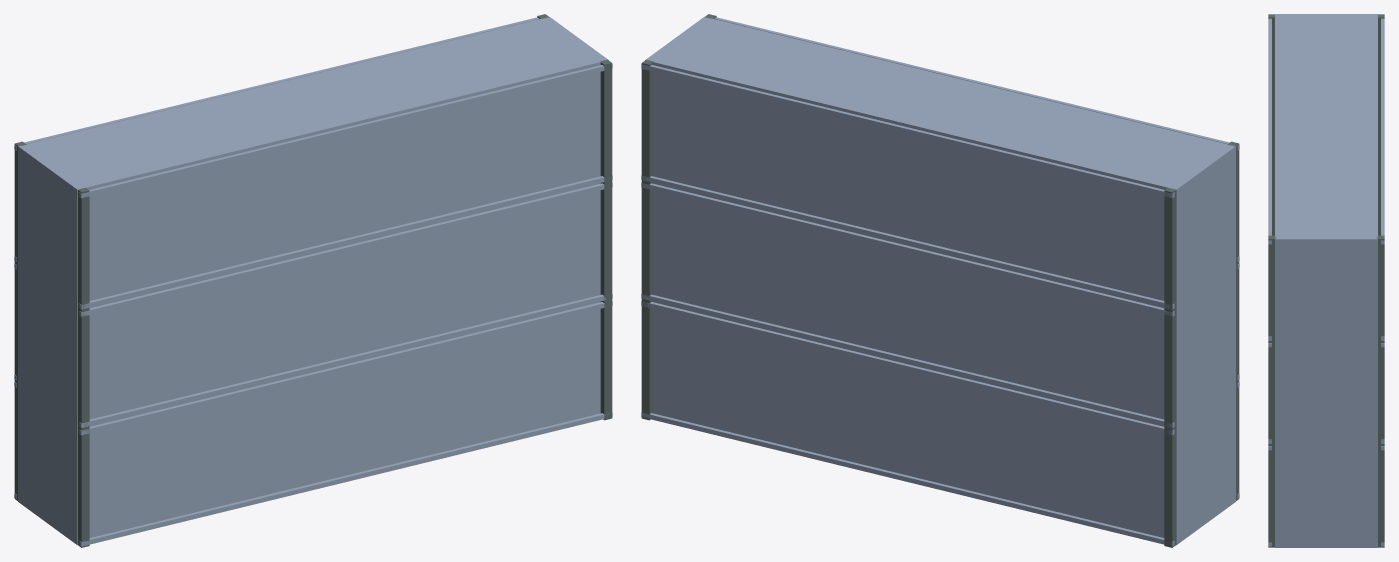
The picture shows the model from 3 angles, left to right: view 1: azimuth 30°, elevation 25°; view 2: azimuth 150°, elevation 25°; view 3: azimuth 270°, elevation 25°; orthographic projection. The views are drawn at different scales.
Size of the model in its own units: 12.2 by 7.8 by 2.66.
